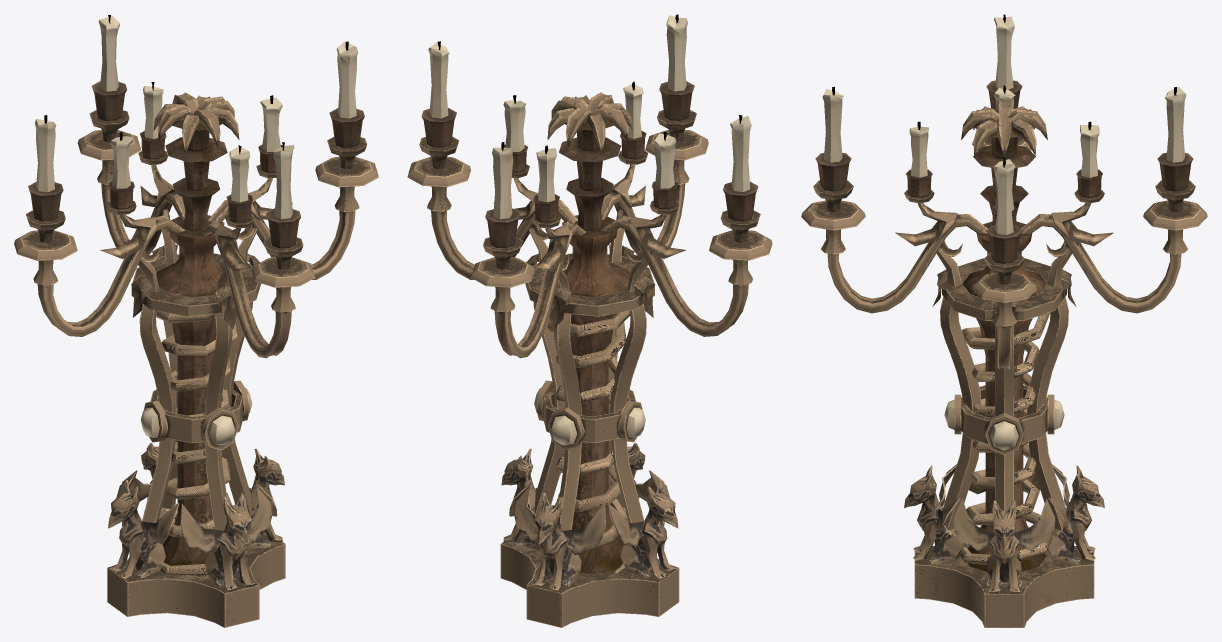
Rendered from Fancy_Cleanup.fbx.
The picture shows the model from 3 angles, left to right: view 1: azimuth 30°, elevation 25°; view 2: azimuth 150°, elevation 25°; view 3: azimuth 270°, elevation 25°; orthographic projection.
Parts seen in each view (by area): view 1: Mumluk; view 2: Mumluk; view 3: Mumluk.
Part boxes in pixels (x1,y1,x2,y2): Mumluk: [14, 15, 378, 627]; Mumluk: [407, 14, 772, 627]; Mumluk: [801, 14, 1207, 627].
Size of the model in its own units: 414 by 565 by 414.
